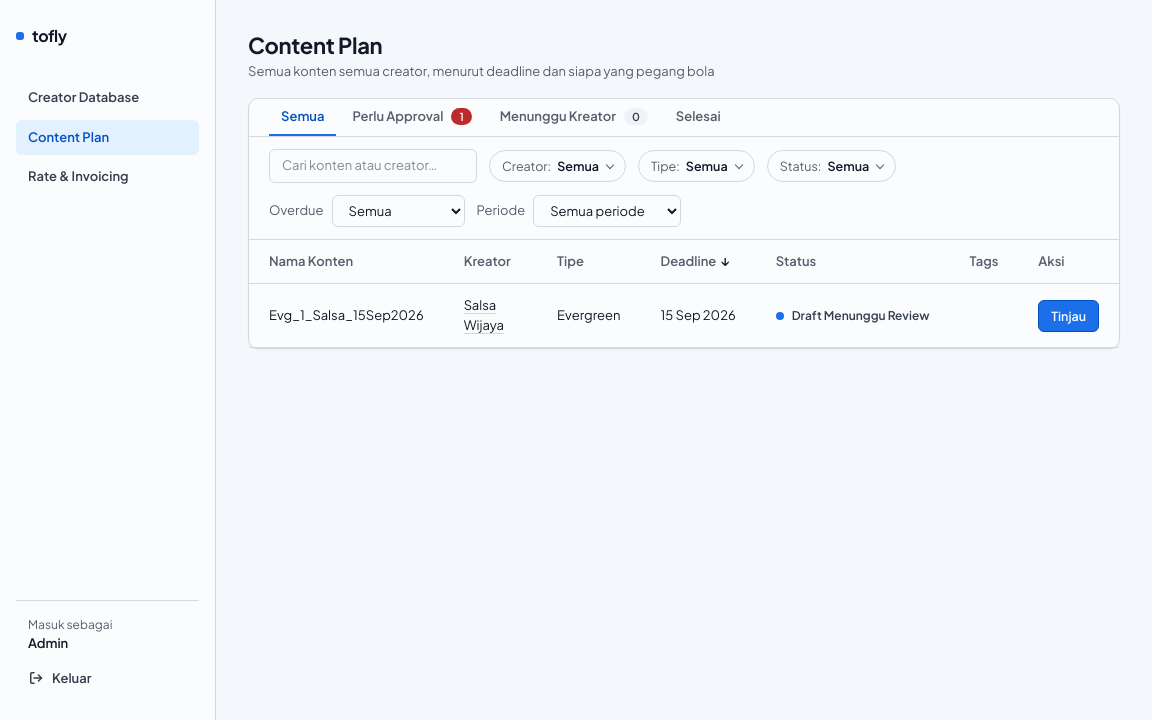
Test: Content Plan page › hands every creator name to the filter bar
Click the button "Creator: Semua" at (558, 166), box [489,150,626,182]
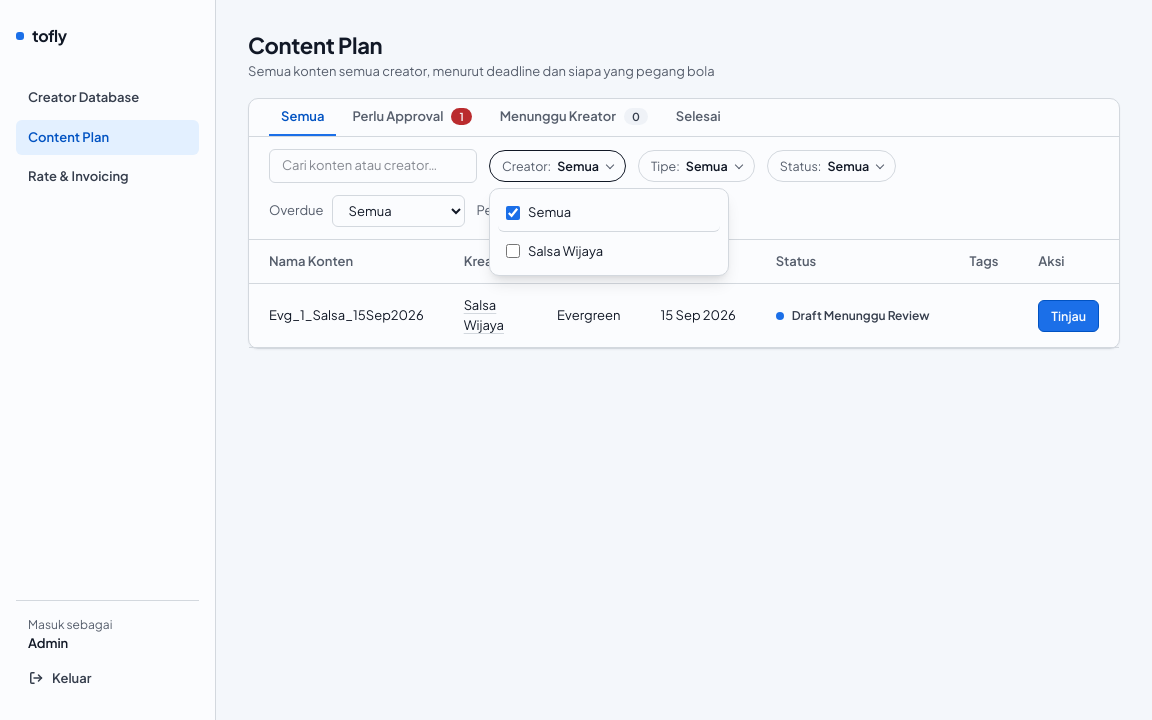
Check: the checkbox labelled "Salsa Wijaya" is shown, box [506,244,520,258]
